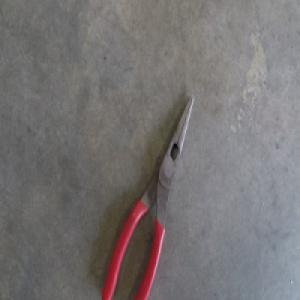Pliers: (104, 97, 195, 298)
